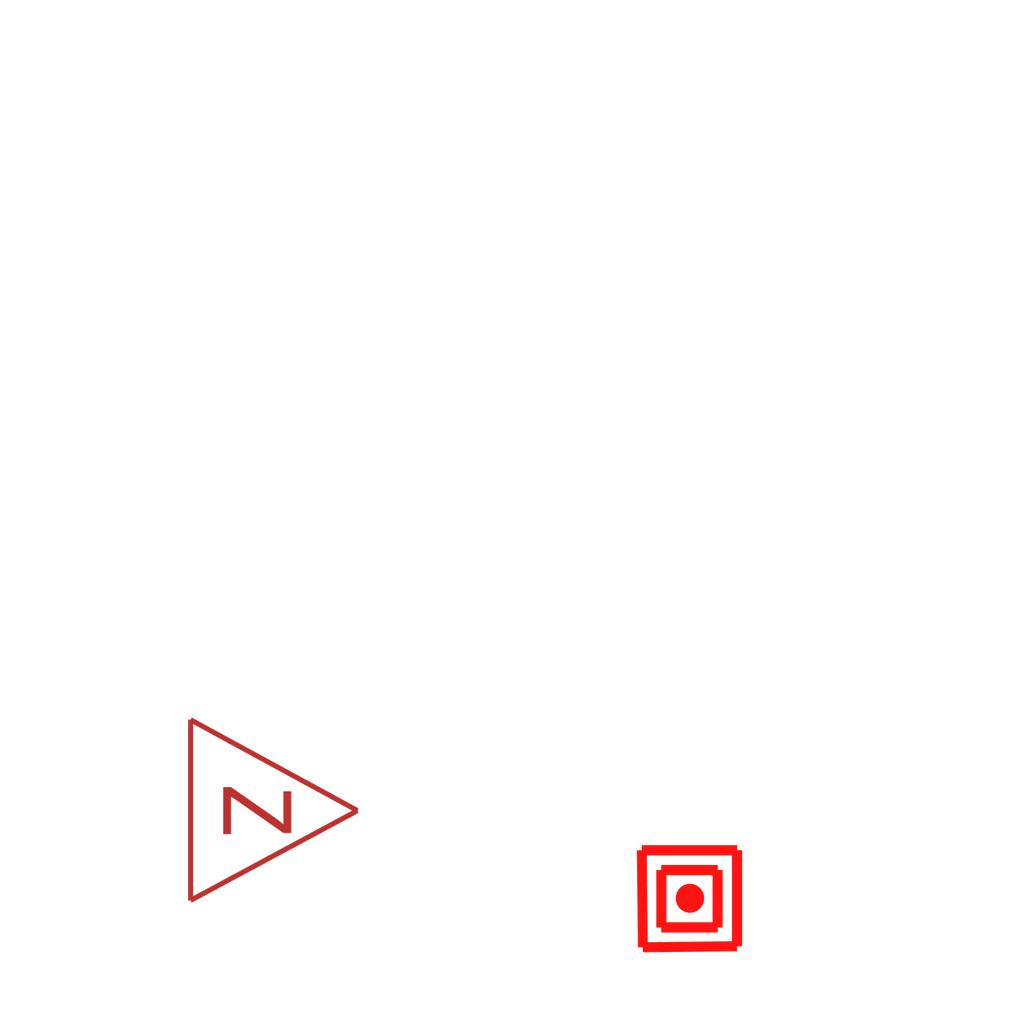NAM-Nichtautomatischer_Melder: (633, 842, 746, 955)
Zimmersignalleuchte: (173, 710, 373, 906)
